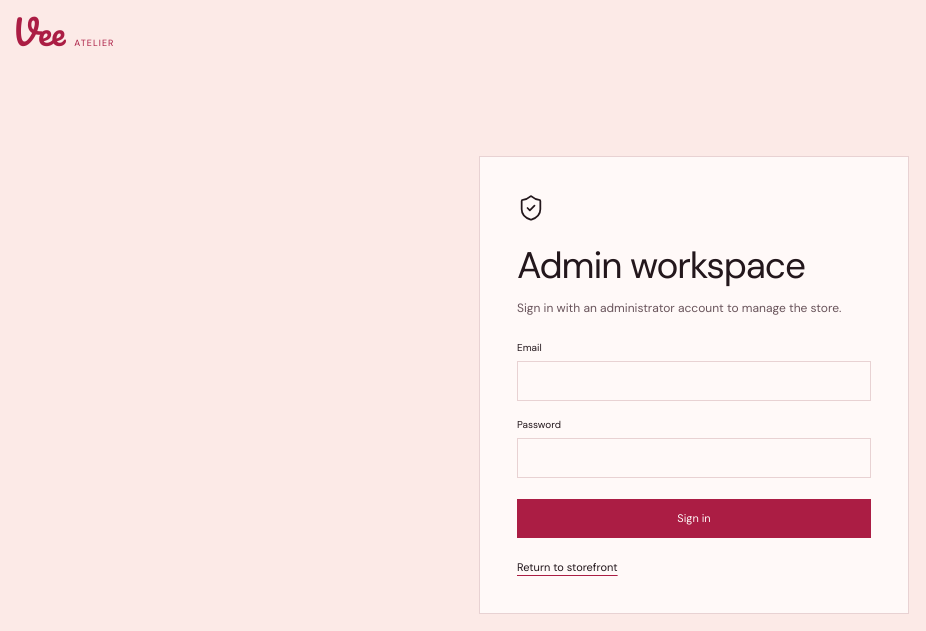
keeps a customer out of the admin workspace after verified sign-in
Step 1. Type "customer@example.test" into the field labelled "Email" → (694, 381), box x1=517 y1=361 x2=871 y2=401
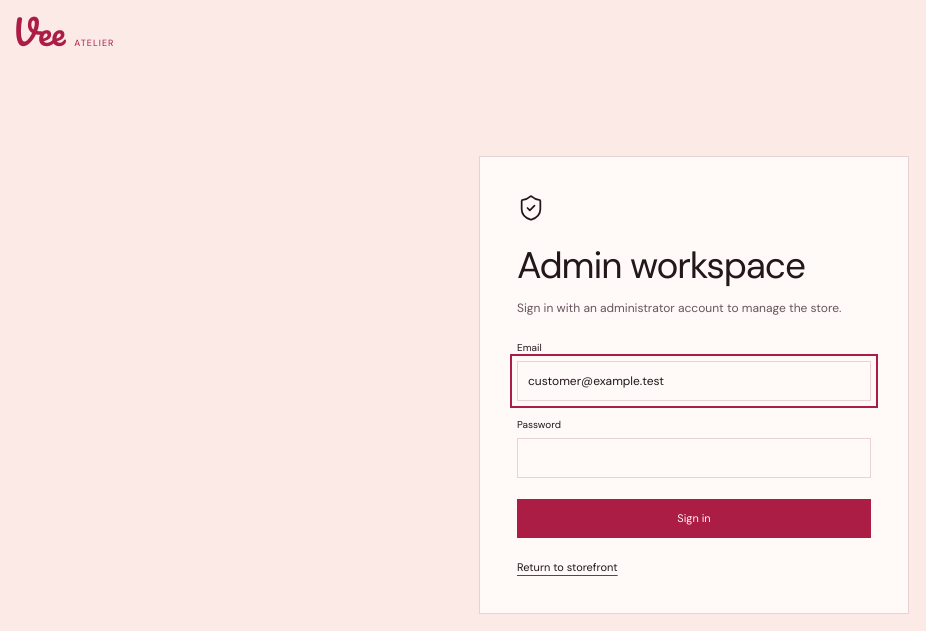
Step 2. Type "example-password" into the password field labelled "Password" → (694, 458), box x1=517 y1=438 x2=871 y2=478
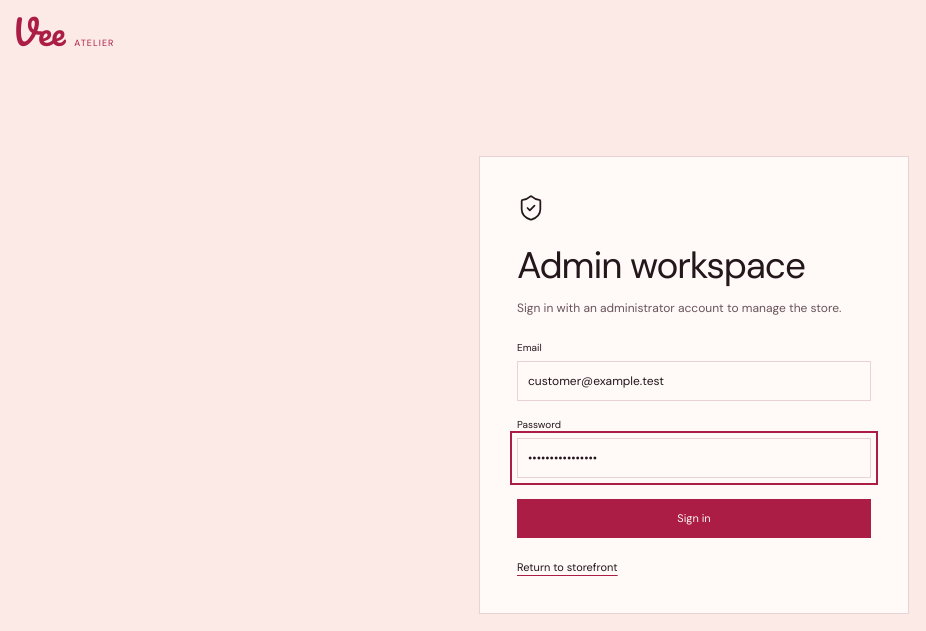
Step 3. Click the button "Sign in" → (694, 518), box x1=517 y1=499 x2=871 y2=538
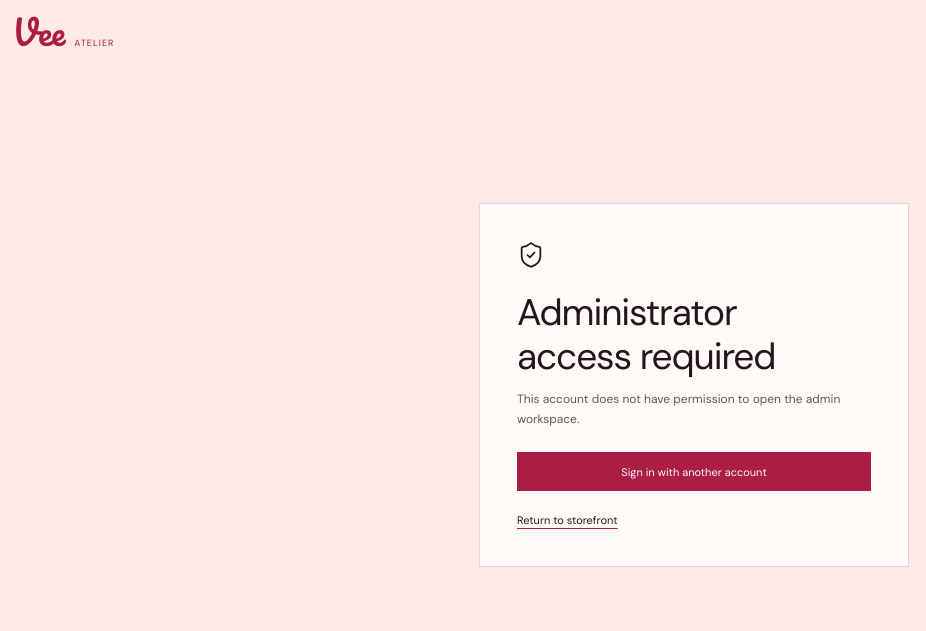
Check: the heading "Administrator access required" is shown, box x1=517 y1=288 x2=775 y2=380
